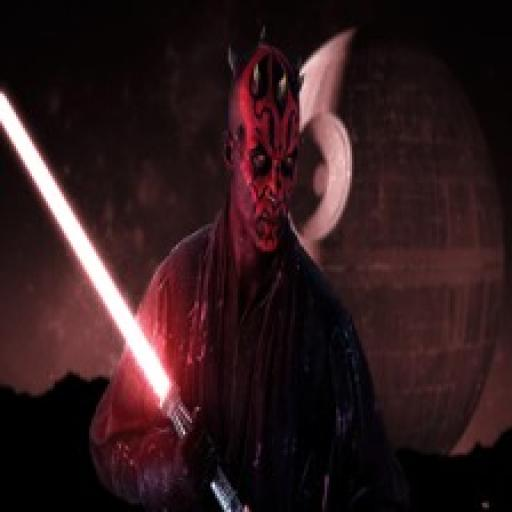human: (88, 33, 398, 512)
sith saber: (1, 88, 245, 512)
